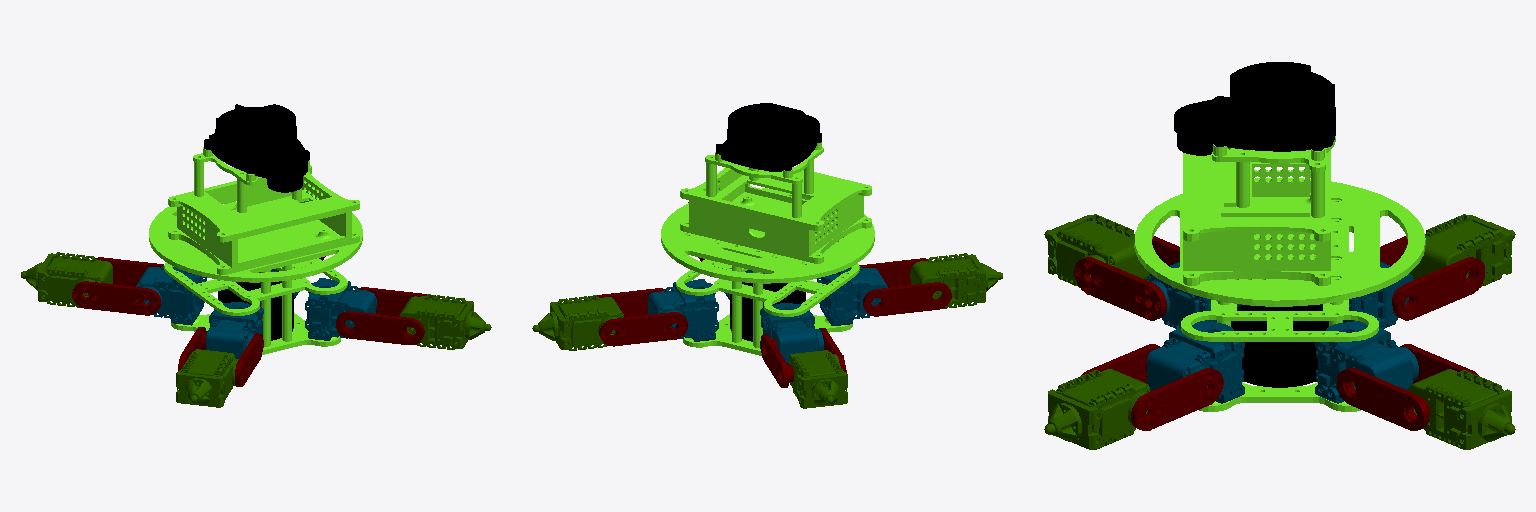
The robot description file, URDF, robot "robot":
<?xml version="1.0" encoding="utf-8"?>

<robot name="robot">
  <link name="base_footprint"></link>
  <joint name="base_joint" type="fixed">
    <parent link="base_footprint" />
    <child link="base_link" />
    <origin xyz="0 0 0.0" rpy="0 0 0" />
  </joint>
  <link name="base_link">
    <visual>
      <origin xyz="0 0 0" rpy="0 0 0" />
      <geometry>
        <mesh filename="package://airosa_description/meshes/base_link.STL" />
      </geometry>
      <material name="base_link-material">
        <color rgba="0.5 1 0.2 1" />
      </material>
    </visual>
    <collision>
      <origin xyz="0 0 0" rpy="0 0 0" />
      <geometry>
        <box size="0.08 0.08 0.01" />
      </geometry>
    </collision>
    <inertial>
      <origin xyz="0 0 0" rpy="0 0 0" />
      <mass value="0.1" />
      <inertia ixx="0.0" ixy="0" ixz="0" iyy="0.0" iyz="0" izz="0.0" />
    </inertial>
  </link>
  <joint name="FRcoxa" type="revolute">
    <parent link="base_link" />
    <child link="coxa1" />
    <origin xyz="0.04 0.04 0" rpy="0 0 -0.7853981633974485" />
    <axis xyz="0 0 1"/>
    <limit effort="0.0" lower="-1" upper="1" velocity="0.5"/>  </joint>
  <link name="coxa1">
    <visual>
      <origin xyz="0.0 0.0 0.0035" rpy="0 0 0.7853981633974485" />
      <geometry>
        <mesh filename="package://airosa_description/meshes/frcoxa_link.STL" />
      </geometry>
      <material name="coxa1-material">
        <color rgba="0.0 0.3 0.4 1" />
      </material>
    </visual>
    <collision>
      <origin xyz="0 0.0135 0" rpy="0 0 0" />
      <geometry>
        <box size="0.01 0.027 0.01" />
      </geometry>
    </collision>
    <inertial>
      <origin xyz="0 0.0135 0" rpy="0 0 0" />
      <mass value="0.1" />
      <inertia ixx="0.0" ixy="0" ixz="0" iyy="0.0" iyz="0" izz="0.0" />
    </inertial>
  </link>
  <joint name="FRfemur" type="revolute">
    <parent link="coxa1" />
    <child link="femur1" />
    <origin xyz="0 0.0265 0.02675" rpy="3.141592653589793 1.5707963267948966 3.141592653589793" />
    <axis xyz="0 0 1"/>
    <limit effort="0.0" lower="-1" upper="1" velocity="0.5"/>  </joint>
  <link name="femur1">
    <visual>
      <origin xyz="0 0 0" rpy="0 0 0" />
      <geometry>
        <mesh filename="package://airosa_description/meshes/flfemur_link.STL" />
      </geometry>
      <material name="femur1-material">
        <color rgba="0.4 0.0 0.0 1" />
      </material>
    </visual>
    <collision>
      <origin xyz="0 0.025 0" rpy="0 0 0" />
      <geometry>
        <box size="0.01 0.05 0.01" />
      </geometry>
    </collision>
    <inertial>
      <origin xyz="0 0.025 0" rpy="0 0 0" />
      <mass value="0.1" />
      <inertia ixx="0.0" ixy="0" ixz="0" iyy="0.0" iyz="0" izz="0.0" />
    </inertial>
  </link>
  <joint name="FRtibia" type="revolute">
    <parent link="femur1" />
    <child link="tibia1" />
    <origin xyz="-0.0001 0.05 0" rpy="0 0 0" />
    <axis xyz="0 0 -1"/>
    <limit effort="0.0" lower="-1" upper="1" velocity="0.5"/>  </joint>
  <link name="tibia1">
    <visual>
      <origin xyz="0 0 0" rpy="0 0 -1.5707963267948966" />
      <geometry>
        <mesh filename="package://airosa_description/meshes/fltibia_link.STL" />
      </geometry>
      <material name="tibia1-material">
        <color rgba="0.2 0.4 0.0 1" />
      </material>
    </visual>
    <collision>
      <origin xyz="0 0.03 0" rpy="0 0 0" />
      <geometry>
        <box size="0.01 0.06 0.01" />
      </geometry>
    </collision>
    <inertial>
      <origin xyz="0 0.03 0" rpy="0 0 0" />
      <mass value="0.1" />
      <inertia ixx="0.0" ixy="0" ixz="0" iyy="0.0" iyz="0" izz="0.0" />
    </inertial>
  </link>
  <joint name="FLcoxa" type="revolute">
    <parent link="base_link" />
    <child link="coxa2" />
    <origin xyz="-0.04 0.04 0" rpy="0 0 0.7853981633974484" />
    <axis xyz="0 0 1"/>
    <limit effort="0.0" lower="-1" upper="1" velocity="0.5"/>  </joint>
  <link name="coxa2">
    <visual>
      <origin xyz="0 0 0.0035" rpy="0 0 0.7853981633974484" />
      <geometry>
        <mesh filename="package://airosa_description/meshes/frcoxa_link.STL" />
      </geometry>
      <material name="coxa2-material">
        <color rgba="0.0 0.3 0.4 1" />
      </material>
    </visual>
    <collision>
      <origin xyz="0 0.0135 0" rpy="0 0 0" />
      <geometry>
        <box size="0.01 0.027 0.01" />
      </geometry>
    </collision>
    <inertial>
      <origin xyz="0 0.0135 0" rpy="0 0 0" />
      <mass value="0.1" />
      <inertia ixx="0.0" ixy="0" ixz="0" iyy="0.0" iyz="0" izz="0.0" />
    </inertial>
  </link>
  <joint name="FLfemur" type="revolute">
    <parent link="coxa2" />
    <child link="femur2" />
    <origin xyz="0 0.0265 0.02675" rpy="3.141592653589793 1.5707963267948966 3.141592653589793" />
    <axis xyz="0 0 1"/>
    <limit effort="0.0" lower="-1" upper="1" velocity="0.5"/>  </joint>
  <link name="femur2">
    <visual>
      <origin xyz="0 0 0" rpy="0 0 0" />
      <geometry>
        <mesh filename="package://airosa_description/meshes/flfemur_link.STL" />
      </geometry>
      <material name="femur2-material">
        <color rgba="0.4 0.0 0.0 1" />
      </material>
    </visual>
    <collision>
      <origin xyz="0 0.025 0" rpy="0 0 0" />
      <geometry>
        <box size="0.01 0.05 0.01" />
      </geometry>
    </collision>
    <inertial>
      <origin xyz="0 0.025 0" rpy="0 0 0" />
      <mass value="0.1" />
      <inertia ixx="0.0" ixy="0" ixz="0" iyy="0.0" iyz="0" izz="0.0" />
    </inertial>
  </link>
  <joint name="FLtibia" type="revolute">
    <parent link="femur2" />
    <child link="tibia2" />
    <origin xyz="-0.0001 0.05 0" rpy="0 0 0" />
    <axis xyz="0 0 -1"/>
    <limit effort="0.0" lower="-1" upper="1" velocity="0.5"/>  </joint>
  <link name="tibia2">
    <visual>
      <origin xyz="0 0 0" rpy="0 0 -1.5707963267948966" />
      <geometry>
        <mesh filename="package://airosa_description/meshes/fltibia_link.STL" />
      </geometry>
      <material name="tibia2-material">
        <color rgba="0.2 0.4 0.0 1" />
      </material>
    </visual>
    <collision>
      <origin xyz="0 0.03 0" rpy="0 0 0" />
      <geometry>
        <box size="0.01 0.06 0.01" />
      </geometry>
    </collision>
    <inertial>
      <origin xyz="0 0.03 0" rpy="0 0 0" />
      <mass value="0.1" />
      <inertia ixx="0.0" ixy="0" ixz="0" iyy="0.0" iyz="0" izz="0.0" />
    </inertial>
  </link>
  <joint name="BRcoxa" type="revolute">
    <parent link="base_link" />
    <child link="coxa3" />
    <origin xyz="0.04 -0.04 0" rpy="0 0 -2.356194490192345" />
    <axis xyz="0 0 1"/>
    <limit effort="0.0" lower="-1" upper="1" velocity="0.5"/>  </joint>
  <link name="coxa3">
    <visual>
      <origin xyz="0 0 0.0035" rpy="0 0 0.7853981633974485" />
      <geometry>
        <mesh filename="package://airosa_description/meshes/frcoxa_link.STL" />
      </geometry>
      <material name="coxa3-material">
        <color rgba="0.0 0.3 0.4 1" />
      </material>
    </visual>
    <collision>
      <origin xyz="0 0.0135 0" rpy="0 0 0" />
      <geometry>
        <box size="0.01 0.027 0.01" />
      </geometry>
    </collision>
    <inertial>
      <origin xyz="0 0.0135 0" rpy="0 0 0" />
      <mass value="0.1" />
      <inertia ixx="0.0" ixy="0" ixz="0" iyy="0.0" iyz="0" izz="0.0" />
    </inertial>
  </link>
  <joint name="BRfemur" type="revolute">
    <parent link="coxa3" />
    <child link="femur3" />
    <origin xyz="0 0.0265 0.02675" rpy="3.141592653589793 1.5707963267948966 3.141592653589793" />
    <axis xyz="0 0 1"/>
    <limit effort="0.0" lower="-1" upper="1" velocity="0.5"/>  </joint>
  <link name="femur3">
    <visual>
      <origin xyz="0 0 0" rpy="0 0 0" />
      <geometry>
        <mesh filename="package://airosa_description/meshes/flfemur_link.STL" />
      </geometry>
      <material name="femur3-material">
        <color rgba="0.4 0.0 0.0 1" />
      </material>
    </visual>
    <collision>
      <origin xyz="0 0.025 0" rpy="0 0 0" />
      <geometry>
        <box size="0.01 0.05 0.01" />
      </geometry>
    </collision>
    <inertial>
      <origin xyz="0 0.025 0" rpy="0 0 0" />
      <mass value="0.1" />
      <inertia ixx="0.0" ixy="0" ixz="0" iyy="0.0" iyz="0" izz="0.0" />
    </inertial>
  </link>
  <joint name="BRtibia" type="revolute">
    <parent link="femur3" />
    <child link="tibia3" />
    <origin xyz="-0.0001 0.05 0" rpy="0 0 0" />
    <axis xyz="0 0 -1"/>
    <limit effort="0.0" lower="-1" upper="1" velocity="0.5"/>  </joint>
  <link name="tibia3">
    <visual>
      <origin xyz="0 0 0" rpy="0 0 -1.5707963267948966" />
      <geometry>
        <mesh filename="package://airosa_description/meshes/fltibia_link.STL" />
      </geometry>
      <material name="tibia3-material">
        <color rgba="0.2 0.4 0.0 1" />
      </material>
    </visual>
    <collision>
      <origin xyz="0 0.03 0" rpy="0 0 0" />
      <geometry>
        <box size="0.01 0.06 0.01" />
      </geometry>
    </collision>
    <inertial>
      <origin xyz="0 0.03 0" rpy="0 0 0" />
      <mass value="0.1" />
      <inertia ixx="0.0" ixy="0" ixz="0" iyy="0.0" iyz="0" izz="0.0" />
    </inertial>
  </link>
  <joint name="BLcoxa" type="revolute">
    <parent link="base_link" />
    <child link="coxa4" />
    <origin xyz="-0.04 -0.04 0" rpy="0 0 2.356194490192345" />
    <axis xyz="0 0 1"/>
    <limit effort="0.0" lower="-1" upper="1" velocity="0.5"/>  </joint>
  <link name="coxa4">
    <visual>
      <origin xyz="0 0 0.0035" rpy="0 0 0.7853981633974485" />
      <geometry>
        <mesh filename="package://airosa_description/meshes/frcoxa_link.STL" />
      </geometry>
      <material name="coxa4-material">
        <color rgba="0.0 0.3 0.4 1" />
      </material>
    </visual>
    <collision>
      <origin xyz="0 0.0135 0" rpy="0 0 0" />
      <geometry>
        <box size="0.01 0.027 0.01" />
      </geometry>
    </collision>
    <inertial>
      <origin xyz="0 0.0135 0" rpy="0 0 0" />
      <mass value="0.1" />
      <inertia ixx="0.0" ixy="0" ixz="0" iyy="0.0" iyz="0" izz="0.0" />
    </inertial>
  </link>
  <joint name="BLfemur" type="revolute">
    <parent link="coxa4" />
    <child link="femur4" />
    <origin xyz="0 0.0265 0.02675" rpy="3.141592653589793 1.5707963267948966 3.141592653589793" />
    <axis xyz="0 0 1"/>
    <limit effort="0.0" lower="-1" upper="1" velocity="0.5"/>  </joint>
  <link name="femur4">
    <visual>
      <origin xyz="0 0 0" rpy="0 0 0" />
      <geometry>
        <mesh filename="package://airosa_description/meshes/flfemur_link.STL" />
      </geometry>
      <material name="femur4-material">
        <color rgba="0.4 0.0 0.0 1" />
      </material>
    </visual>
    <collision>
      <origin xyz="0 0.025 0" rpy="0 0 0" />
      <geometry>
        <box size="0.01 0.05 0.01" />
      </geometry>
    </collision>
    <inertial>
      <origin xyz="0 0.025 0" rpy="0 0 0" />
      <mass value="0.1" />
      <inertia ixx="0.0" ixy="0" ixz="0" iyy="0.0" iyz="0" izz="0.0" />
    </inertial>
  </link>
  <joint name="BLtibia" type="revolute">
    <parent link="femur4" />
    <child link="tibia4" />
    <origin xyz="-0.0001 0.05 0" rpy="0 0 0" />
    <axis xyz="0 0 -1"/>
    <limit effort="0.0" lower="-1" upper="1" velocity="0.5"/>  </joint>
  <link name="tibia4">
    <visual>
      <origin xyz="0 0 0" rpy="0 0 -1.5707963267948966" />
      <geometry>
        <mesh filename="package://airosa_description/meshes/fltibia_link.STL" />
      </geometry>
      <material name="tibia4-material">
        <color rgba="0.2 0.4 0.0 1" />
      </material>
    </visual>
    <collision>
      <origin xyz="0 0.03 0" rpy="0 0 0" />
      <geometry>
        <box size="0.01 0.06 0.01" />
      </geometry>
    </collision>
    <inertial>
      <origin xyz="0 0.03 0" rpy="0 0 0" />
      <mass value="0.1" />
      <inertia ixx="0.0" ixy="0" ixz="0" iyy="0.0" iyz="0" izz="0.0" />
    </inertial>
  </link>
  <joint name="laser_joint" type="fixed">
    <parent link="base_link" />
    <child link="lidar" />
    <origin xyz="0 0 0.02" rpy="0 0 0" />
    <axis xyz="0 0 1"/>
  </joint>
  <link name="lidar">
    <visual>
      <origin xyz="0 0 0" rpy="0 0 0" />
      <geometry>
        <cylinder radius="0.03" length="0.03" />
      </geometry>
      <material name="lidar-material">
        <color rgba="0 0 0 1" />
      </material>
    </visual>
    <collision>
      <origin xyz="0 0 0" rpy="0 0 0" />
      <geometry>
        <cylinder radius="0.03" length="0.03" />
      </geometry>
    </collision>
    <inertial>
      <origin xyz="0 0 0" rpy="0 0 0" />
      <mass value="0.1" />
      <inertia ixx="0.0" ixy="0" ixz="0" iyy="0.0" iyz="0" izz="0.0" />
    </inertial>
  </link>
  <joint name="lds_joint" type="fixed">
    <parent link="base_link" />
    <child link="lds" />
    <origin xyz="0 0 0" rpy="0 0 0" />
    <axis xyz="0 0 0"/>
  </joint>
  <link name="lds">
    <visual>
      <origin xyz="0 0 0" rpy="0 0 0" />
      <geometry>
        <mesh filename="package://airosa_description/meshes/lidar_base.STL"/>
      </geometry>
      <material name="lds-material">
        <color rgba="0 0 0 1" />
      </material>
    </visual>
    <collision>
      <origin xyz="0 0 0.1592" rpy="0 0 0" />
      <geometry>
        <cylinder radius="0.03" length="0.03" />
      </geometry>
    </collision>
    <inertial>
      <origin xyz="0 0 0" rpy="0 0 0" />
      <mass value="0.1" />
      <inertia ixx="0.0" ixy="0" ixz="0" iyy="0.0" iyz="0" izz="0.0" />
    </inertial>
  </link>
</robot>

--- Render facts (derived) ---
The picture shows the robot from 3 angles, left to right: view 1: azimuth 30°, elevation 25°; view 2: azimuth 150°, elevation 25°; view 3: azimuth 270°, elevation 25°; orthographic projection.
Robot: robot — 16 links, 15 joints (12 revolute, 3 fixed); root link base_footprint; default pose: all joints at 0.
Visible links, largest first — view 1: base_link, lds, tibia3, femur2, femur3, tibia2, tibia4, coxa3, coxa2, coxa4, femur4, lidar; view 2: base_link, lds, tibia1, femur1, femur4, tibia4, tibia2, coxa1, coxa4, coxa2, femur2, lidar; view 3: base_link, lds, tibia3, tibia1, coxa1, coxa3, tibia2, femur3, tibia4, lidar, femur1, femur4 (+3 smaller).
Boxes of the visible links, x1,y1,x2,y2 form: base_link: (149, 147, 362, 354); lds: (204, 104, 309, 192); tibia3: (399, 294, 491, 349); femur2: (72, 257, 163, 315); femur3: (336, 287, 431, 344); tibia2: (21, 252, 112, 307); tibia4: (176, 349, 238, 407); coxa3: (305, 278, 376, 340); coxa2: (136, 265, 206, 325); coxa4: (206, 302, 263, 358); femur4: (178, 327, 263, 386); lidar: (218, 281, 293, 340); base_link: (661, 142, 874, 355); lds: (716, 103, 821, 171); tibia1: (532, 295, 623, 350); femur1: (592, 288, 688, 346); femur4: (859, 258, 951, 316); tibia4: (910, 253, 1002, 308); tibia2: (789, 350, 847, 408); coxa1: (648, 279, 718, 341); coxa4: (817, 266, 887, 325); coxa2: (760, 303, 823, 364); femur2: (760, 328, 846, 387); lidar: (730, 282, 805, 341); base_link: (1134, 136, 1425, 411); lds: (1174, 62, 1335, 155); tibia3: (1044, 369, 1149, 449); tibia1: (1409, 369, 1515, 449); coxa1: (1315, 321, 1418, 403); coxa3: (1147, 321, 1244, 403); tibia2: (1403, 214, 1515, 287); femur3: (1081, 344, 1223, 430); tibia4: (1044, 214, 1150, 287); lidar: (1231, 305, 1328, 387); femur1: (1337, 344, 1478, 430); femur4: (1074, 236, 1179, 320).
Bounding box of the posed robot: 0.2748 × 0.2748 × 0.1861 m (x, y, z).
14 mesh visuals loaded from 5 distinct referenced files (5 binary STL).